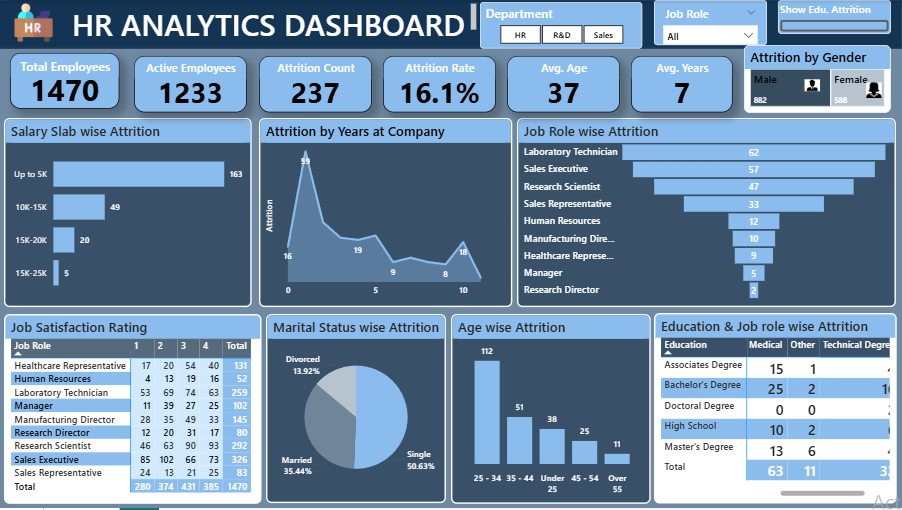

The dashboard page shown, as its layout file describes it:
{"tool":"powerbi","page":{"name":"Page 1","canvas":[1280,720],"ordinal":0},"visuals":[{"type":"shape","title":"         HR ANALYTICS DASHBOARD","box":[0,0,1280,68.9],"z":0},{"type":"pivotTable","title":"Job Satisfaction Rating","fields":{"Rows":["Data.Job Role"],"Columns":["Data.Job Satisfaction"],"Values":["Sum(Data.Employee Count)"]},"box":[7.2,445.5,365.3,268.6],"z":1000},{"type":"funnel","title":"Job Role wise Attrition","fields":{"Y":["Sum(Data.CF_attrition count)"],"Category":["Data.Job Role"]},"box":[734.1,167.8,537.2,267.6],"z":2000},{"type":"clusteredBarChart","title":"Salary Slab wise Attrition","fields":{"Category":["Data.salary slab"],"Y":["Sum(Data.CF_attrition count)"]},"box":[7.2,167.7,350.9,267.5],"z":3000},{"type":"card","title":"Total Employees","fields":{"Values":["Sum(Data.Employee Count)"]},"box":[15.6,75.7,155.1,79.4],"z":4000},{"type":"card","title":"Avg. Age","fields":{"Values":["Avg(Data.Age)"]},"box":[720,80,160,80],"z":5000},{"type":"card","title":"Attrition Rate","fields":{"Values":["Avg(Data.CF_attrition rate)"]},"box":[544,80,160,80],"z":6000},{"type":"card","title":"Attrition Count","fields":{"Values":["Sum(Data.CF_attrition count)"]},"box":[368,80,160,80],"z":7000},{"type":"card","title":"Active  Employees","fields":{"Values":["Sum(Data.CF_current Employee)"]},"box":[192,80,160,80],"z":8000},{"type":"textbox","box":[15.6,0,666.1,62.4],"z":9000},{"type":"treemap","title":"Attrition by Gender","fields":{"Group":["Data.Gender"],"Values":["CountNonNull(Data.Employee Count)"]},"box":[1056,64,208,96],"z":10000},{"type":"slicer","title":"Department","fields":{"Values":["Data.Department"]},"box":[681.2,3.1,230.5,65.9],"z":11000},{"type":"stackedAreaChart","title":"Attrition by Years at Company","fields":{"Category":["Data.Years At Company"],"Y":["Sum(Data.CF_attrition count)"]},"box":[368.4,167.7,359.1,267.5],"z":12000},{"type":"columnChart","title":"Age wise Attrition","fields":{"Category":["Data.CF_age band"],"Y":["Sum(Data.CF_attrition count)"]},"box":[640,444.5,283,268.6],"z":13000},{"type":"pieChart","title":"Marital Status wise Attrition","fields":{"Category":["Data.Marital Status"],"Y":["Sum(Data.CF_attrition count)"]},"box":[378.6,445.5,255.2,267.5],"z":14000},{"type":"image","box":[0,0,97.8,63.8],"z":15000},{"type":"image","box":[1136,96,32,48],"z":16000},{"type":"image","box":[1216,112,48,32],"z":17000},{"type":"pivotTable","title":"Education & Job role wise Attrition","fields":{"Rows":["Data.Education"],"Columns":["Data.Education Field"],"Values":["Sum(Data.CF_attrition count)"]},"box":[928.1,443.5,343.7,269.6],"z":18000},{"type":"card","title":"Avg. Years","fields":{"Values":["Avg(Data.Years At Company)"]},"box":[896,80,144,80],"z":19000},{"type":"slicer","fields":{"Values":["Data.Job Role"]},"box":[928,0,160,64],"z":20000},{"type":"actionButton","title":"Show Edu. Attrition","box":[1104,0,160,48],"z":22000}]}

Visuals, with their boxes in screenshot pixels (x1, y1, x2, y2), scaled from the page's 1280x720 canvas onto the 902x510 screenshot:
"         HR ANALYTICS DASHBOARD" shape: pyautogui.locateOnScreen(0, 0, 901, 49)
"Job Satisfaction Rating" pivotTable: pyautogui.locateOnScreen(5, 316, 262, 506)
"Job Role wise Attrition" funnel: pyautogui.locateOnScreen(517, 119, 896, 308)
"Salary Slab wise Attrition" clusteredBarChart: pyautogui.locateOnScreen(5, 119, 252, 308)
"Total Employees" card: pyautogui.locateOnScreen(11, 54, 120, 110)
"Avg. Age" card: pyautogui.locateOnScreen(507, 57, 620, 113)
"Attrition Rate" card: pyautogui.locateOnScreen(383, 57, 496, 113)
"Attrition Count" card: pyautogui.locateOnScreen(259, 57, 372, 113)
"Active  Employees" card: pyautogui.locateOnScreen(135, 57, 248, 113)
textbox: pyautogui.locateOnScreen(11, 0, 480, 44)
"Attrition by Gender" treemap: pyautogui.locateOnScreen(744, 45, 891, 113)
"Department" slicer: pyautogui.locateOnScreen(480, 2, 642, 49)
"Attrition by Years at Company" stackedAreaChart: pyautogui.locateOnScreen(260, 119, 513, 308)
"Age wise Attrition" columnChart: pyautogui.locateOnScreen(451, 315, 650, 505)
"Marital Status wise Attrition" pieChart: pyautogui.locateOnScreen(267, 316, 447, 505)
image: pyautogui.locateOnScreen(0, 0, 69, 45)
image: pyautogui.locateOnScreen(801, 68, 823, 102)
image: pyautogui.locateOnScreen(857, 79, 891, 102)
"Education & Job role wise Attrition" pivotTable: pyautogui.locateOnScreen(654, 314, 896, 505)
"Avg. Years" card: pyautogui.locateOnScreen(631, 57, 733, 113)
slicer - Data.Job Role: pyautogui.locateOnScreen(654, 0, 767, 45)
"Show Edu. Attrition" actionButton: pyautogui.locateOnScreen(778, 0, 891, 34)
